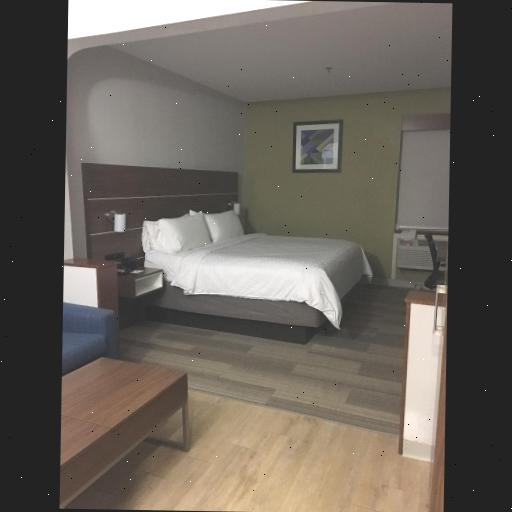clean_bed: (82, 163, 361, 344)
clean_floor: (81, 283, 433, 512)
organised_pillow: (144, 208, 251, 254)
organized table: (59, 358, 192, 508)
